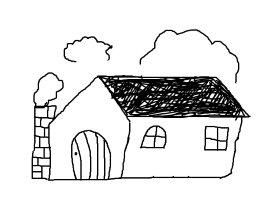closed_window: (137, 121, 178, 154), (196, 121, 237, 152)
clouds: (132, 20, 255, 75), (53, 27, 119, 68)
door: (64, 121, 118, 189)
shaded_roof: (45, 65, 253, 125)
smoking_chimney: (13, 61, 77, 130)
wall: (115, 111, 245, 183)
